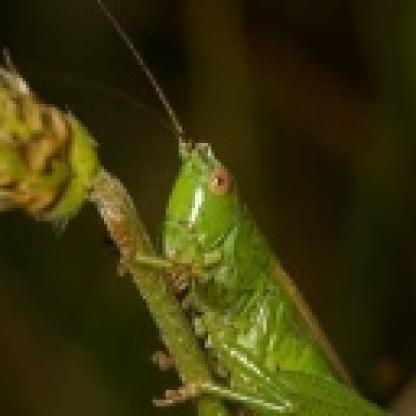grasshopper: (103, 49, 392, 415)
